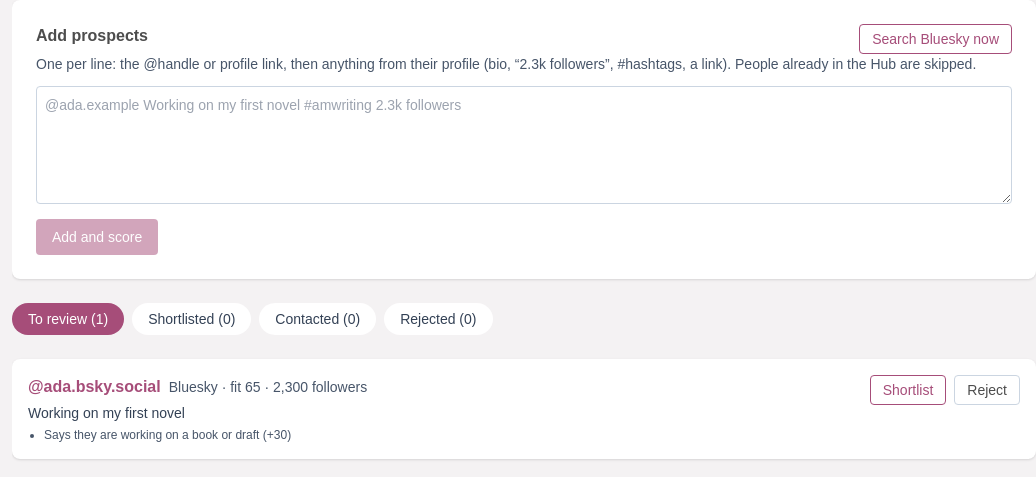
Test case: ProspectsView › searches Bluesky and reports what it found
Click the button "Search Bluesky now".
click(936, 39)  # box [859,24,1012,54]
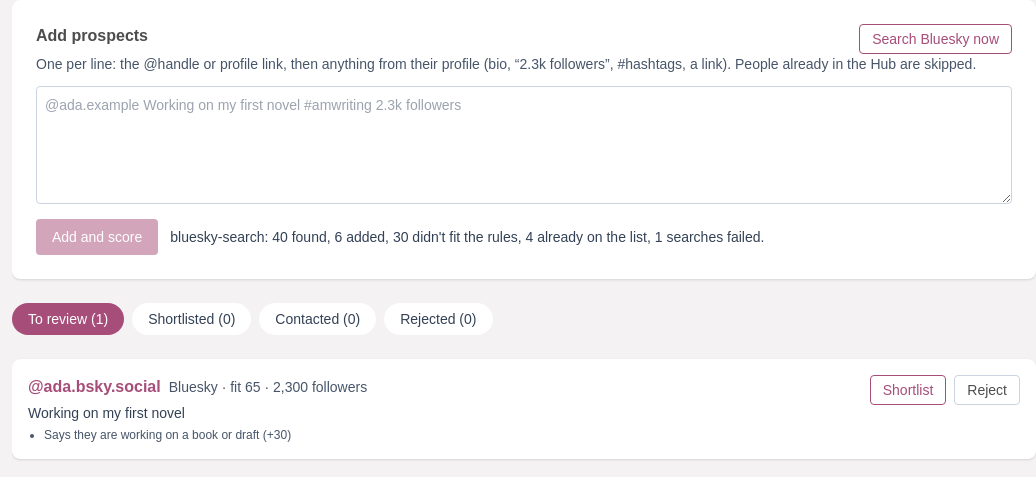
expect the message shows "bluesky-search: 40 found, 6 added, 30 didn't fit the rules, 4 already on the list, 1 searches failed.": met, box [170,229,764,245]
